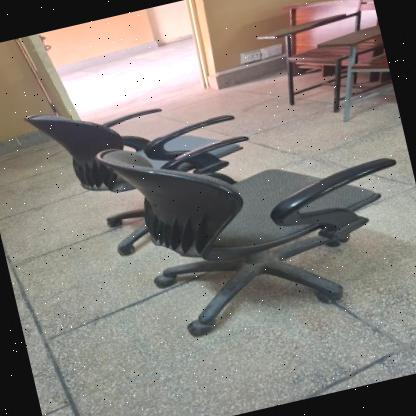chair: (71, 79, 416, 357), (17, 60, 254, 216)
